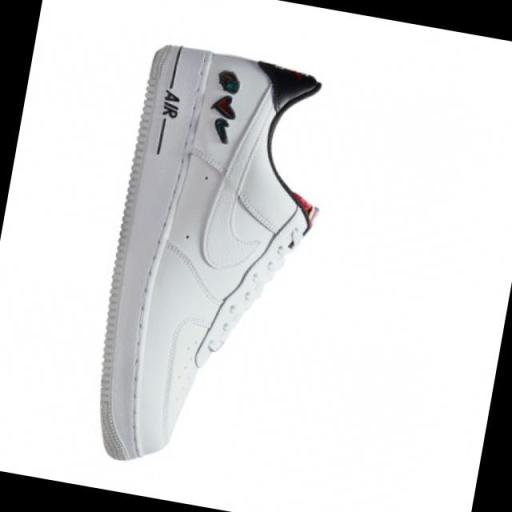Nike: (190, 68, 287, 288)
